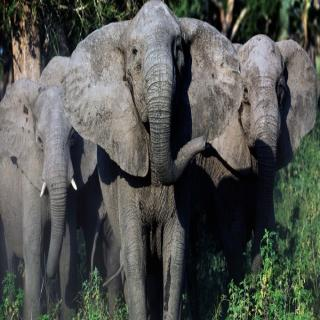Elephant: (62, 0, 243, 320), (0, 53, 109, 320), (215, 20, 320, 284)
